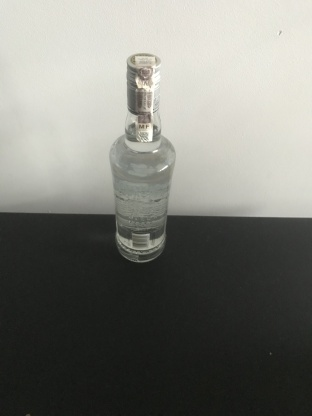nakretka: (124, 50, 163, 115)
